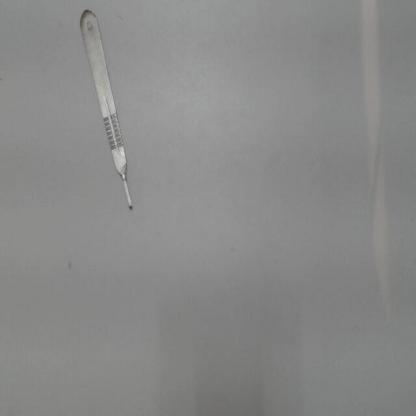No.3 BP Handle: (73, 5, 141, 218)
